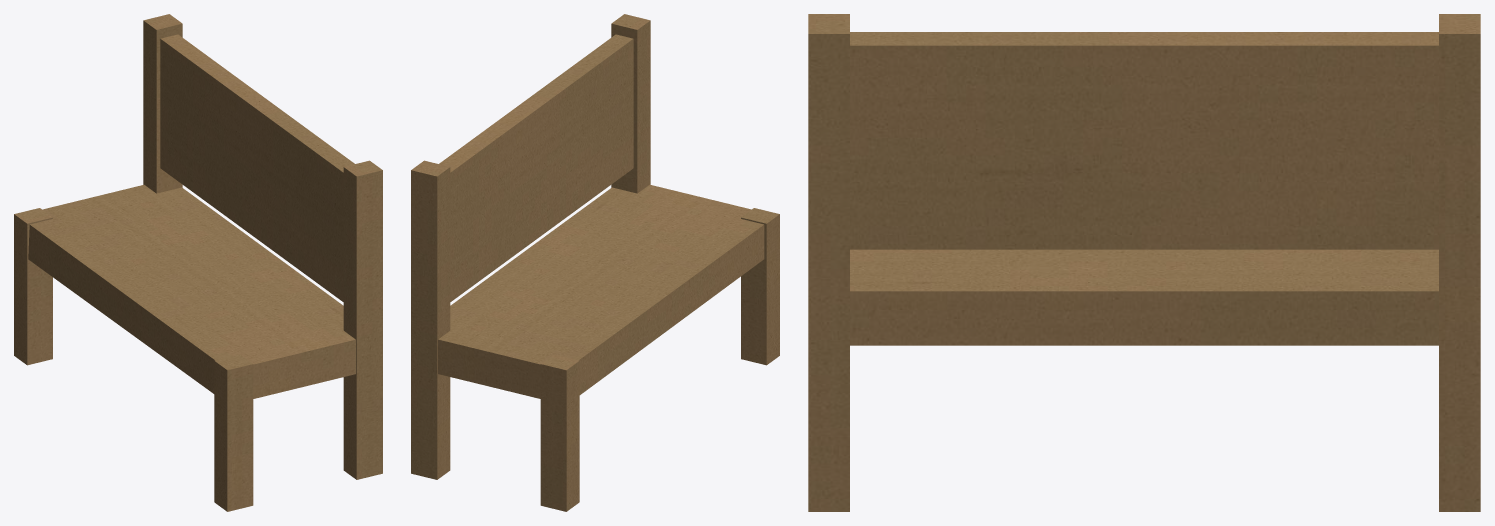
The model's file is Banco.fbx.
3 renders of one model, left to right at view 1: azimuth 30°, elevation 25°; view 2: azimuth 150°, elevation 25°; view 3: azimuth 270°, elevation 25°, orthographic. The views are drawn at different scales.
Parts seen in each view (by area): view 1: Chair.003; view 2: Chair.003; view 3: Chair.003.
Boxes of the visible parts, left/top/right/bottom form: Chair.003: left=14, top=14, right=382, bottom=511; Chair.003: left=411, top=14, right=779, bottom=511; Chair.003: left=808, top=14, right=1480, bottom=511.
Bounding box in the file's own units: 29.78 × 55.64 × 70.83.
1 material, 1 textured.
